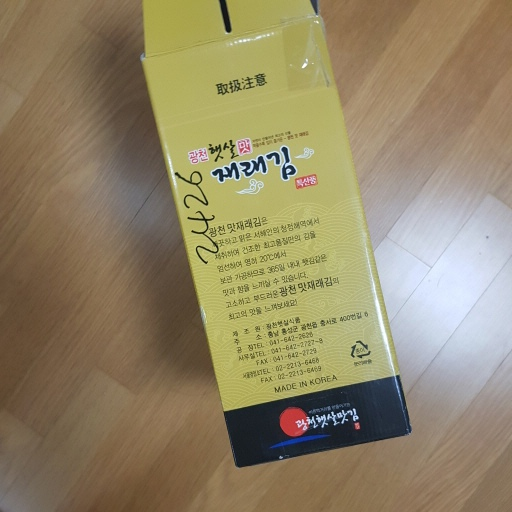Paper_0: (140, 1, 417, 474)
